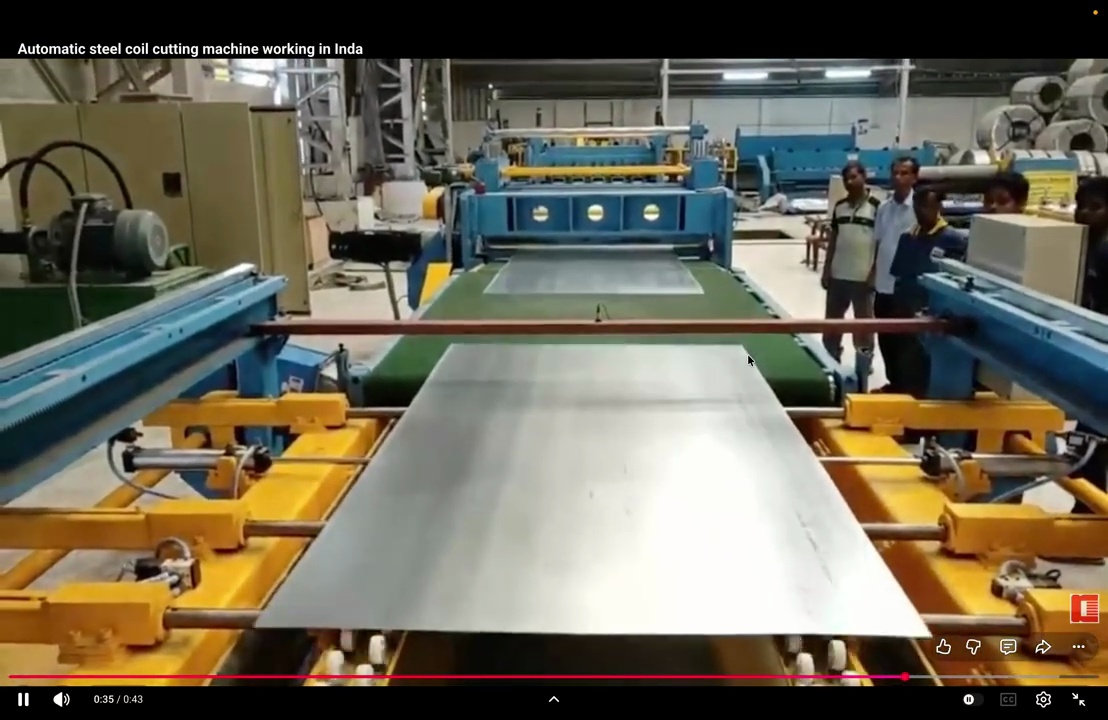steel plate: (258, 344, 928, 636), (484, 249, 702, 293)
